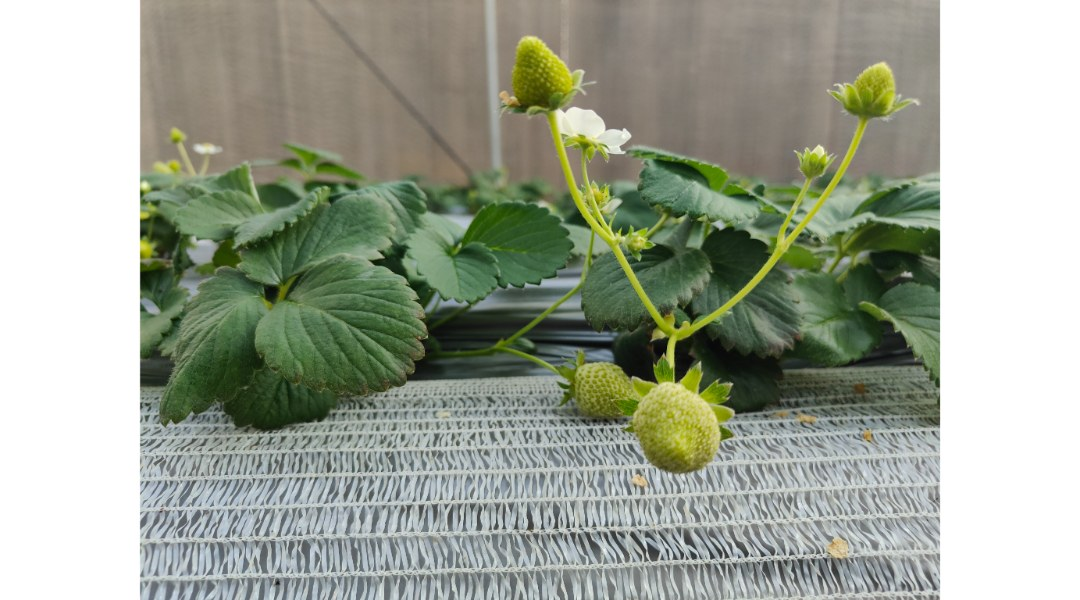berry: (627, 351, 741, 490), (493, 29, 591, 114), (815, 52, 919, 128), (550, 349, 642, 429), (764, 125, 843, 183), (613, 214, 654, 267), (584, 178, 618, 218)
flower: (553, 103, 627, 165)
strain: (800, 122, 862, 238), (520, 247, 590, 349), (698, 253, 778, 325), (619, 253, 670, 332)
